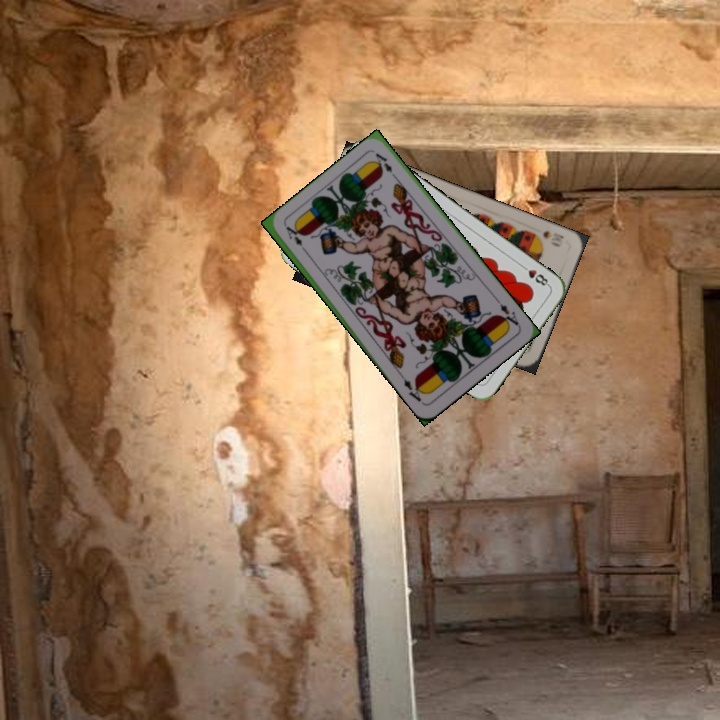EA: (282, 222, 311, 257), (495, 299, 522, 330)
H8: (517, 261, 552, 289)
S10: (539, 227, 566, 249)
